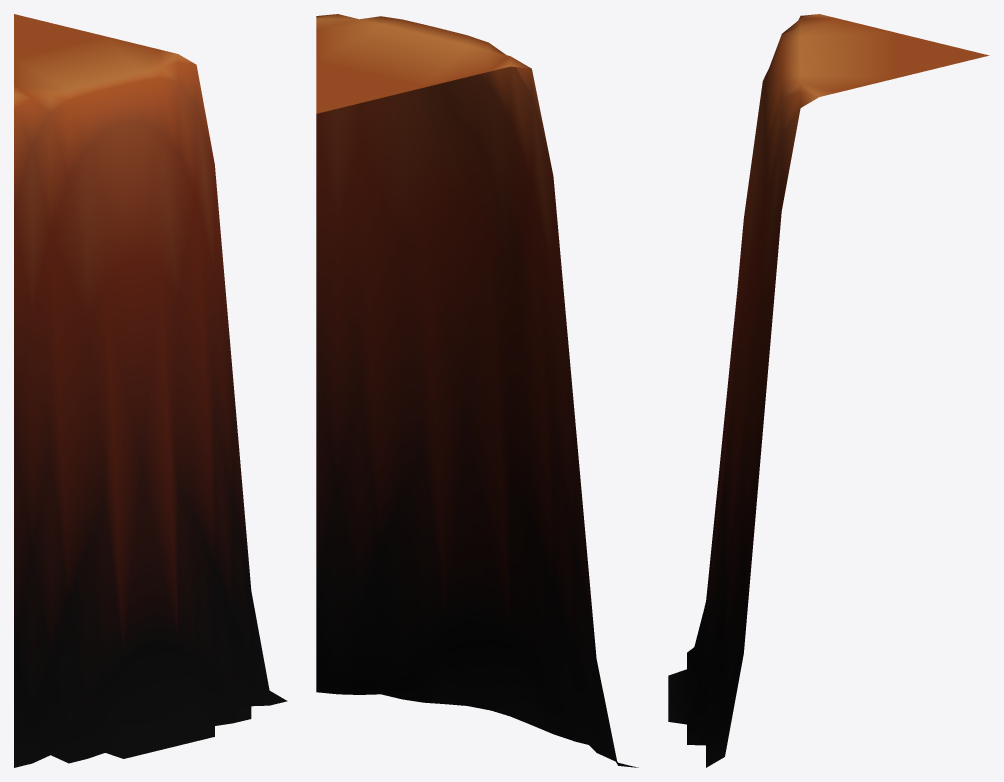
File: MODULE_DESERT_OUT.fbx
3 renders of one model, left to right at view 1: azimuth 30°, elevation 25°; view 2: azimuth 150°, elevation 25°; view 3: azimuth 270°, elevation 25°, orthographic. The views are drawn at different scales.
Parts seen in each view (by area): view 1: MODULE_DESERT_OUT__export; view 2: MODULE_DESERT_OUT__export; view 3: MODULE_DESERT_OUT__export.
Boxes of the visible parts, left/top/right/bottom form: MODULE_DESERT_OUT__export: left=14, top=14, right=287, bottom=767; MODULE_DESERT_OUT__export: left=316, top=14, right=638, bottom=767; MODULE_DESERT_OUT__export: left=668, top=14, right=989, bottom=767.
Bounding box in the file's own units: 62.5 × 135 × 61.34.
